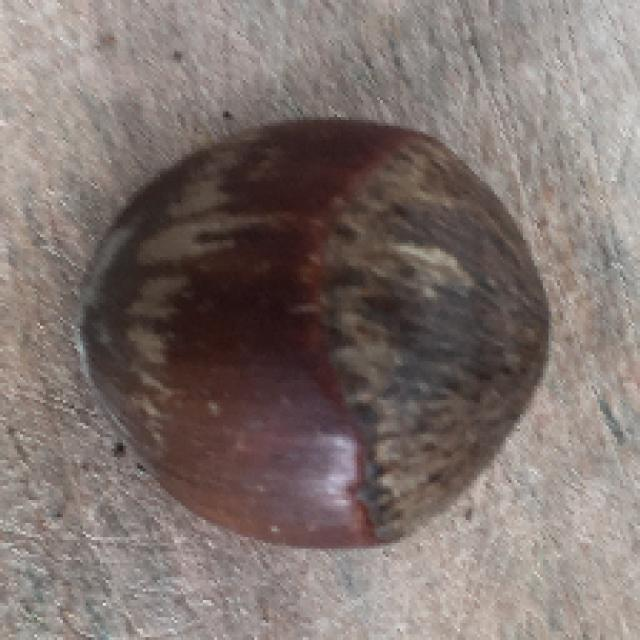DamagedHazelnut: (73, 115, 555, 546)
